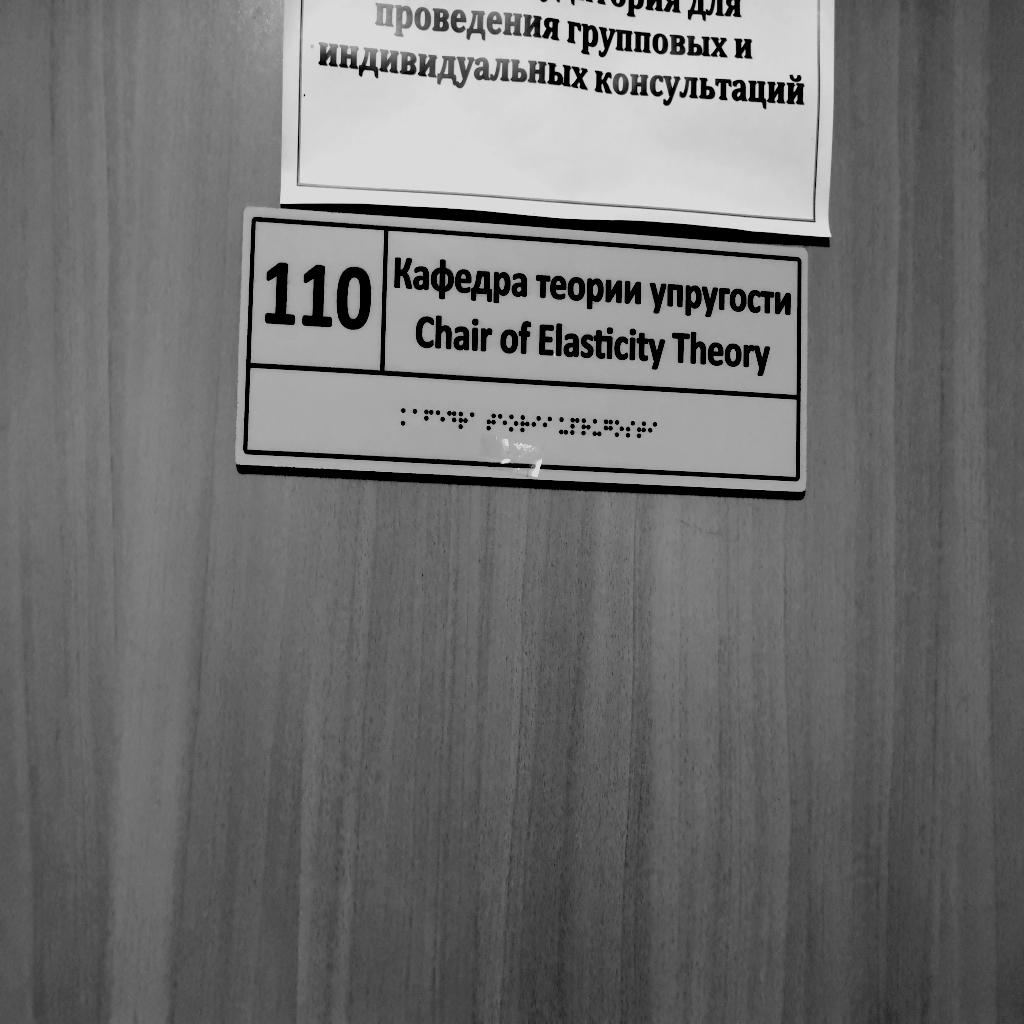_y: (559, 417, 568, 436), (593, 419, 602, 437)
a: (412, 409, 422, 427), (470, 412, 480, 430)
d: (447, 411, 457, 431)
e: (436, 410, 445, 429), (498, 414, 507, 433)
f: (424, 409, 434, 428)
g: (604, 419, 613, 438)
i: (531, 416, 541, 434), (543, 416, 552, 434), (648, 421, 657, 439)
k: (401, 408, 411, 427)
o: (614, 419, 624, 438), (509, 414, 518, 432)
p: (570, 417, 580, 435)
r: (520, 414, 530, 433), (458, 412, 468, 430), (581, 418, 591, 436)
s: (626, 420, 635, 438)
t: (486, 413, 496, 431), (637, 421, 647, 439)
